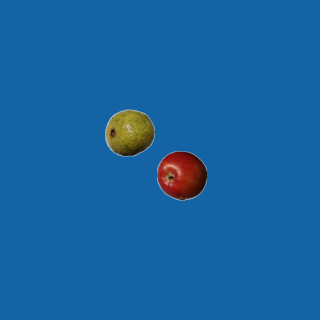Apple Braeburn: (156, 150, 206, 200)
Guava: (104, 107, 154, 157)
